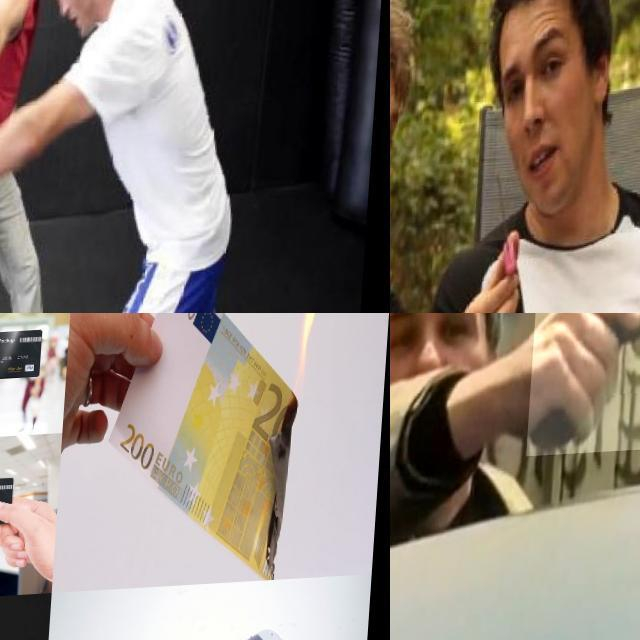-: (478, 160, 549, 313), (0, 166, 39, 266)
gun-knife-thesis - v11 Yolov5 augmented: (531, 313, 640, 460)
